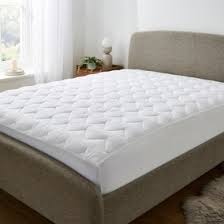bed-matress: (1, 68, 223, 195)
